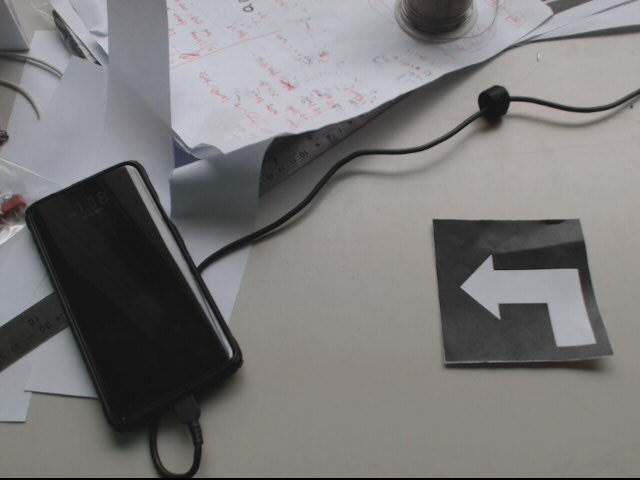left: (431, 218, 613, 362)
